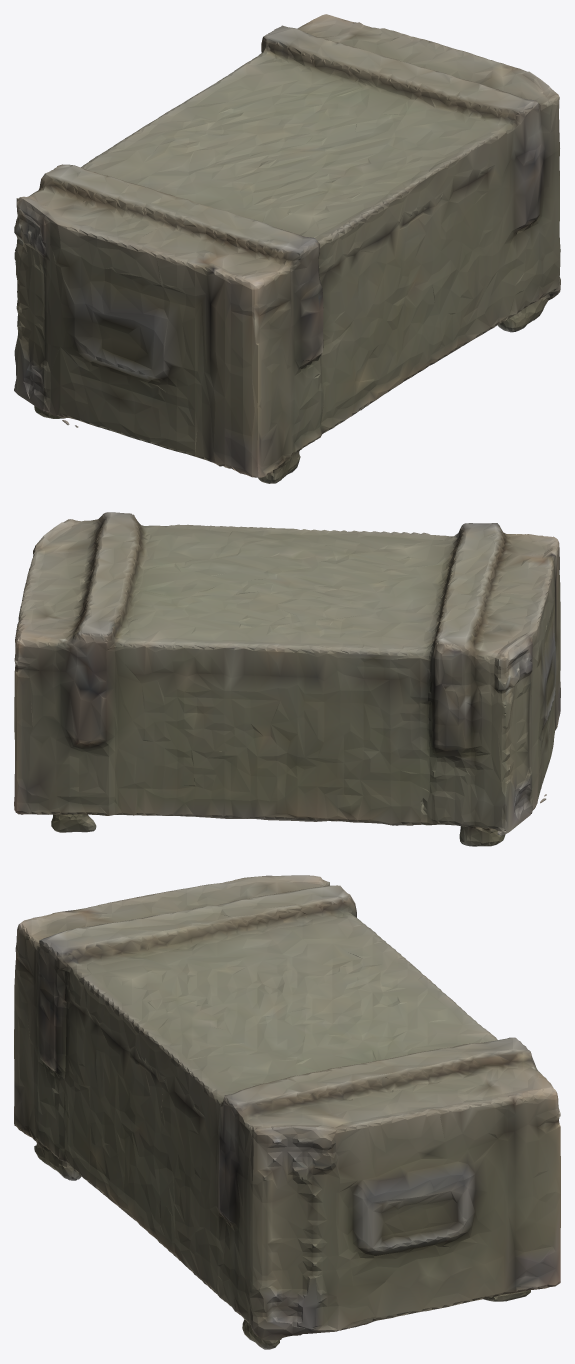
File: model_roblox_hq.glb
The picture shows the model from 3 angles, top to bottom: view 1: azimuth 30°, elevation 25°; view 2: azimuth 150°, elevation 25°; view 3: azimuth 270°, elevation 25°; orthographic projection. The views are drawn at different scales.
Visible parts, largest first — view 1: world; view 2: world; view 3: world.
Part boxes in pixels (x1,y1,x2,y2): world: (14,14,560,483); world: (14,512,560,846); world: (14,875,560,1349).
Bounding box in the file's own units: 2 × 0.8685 × 1.79.
